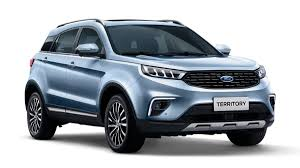Ford: (26, 21, 274, 151)
